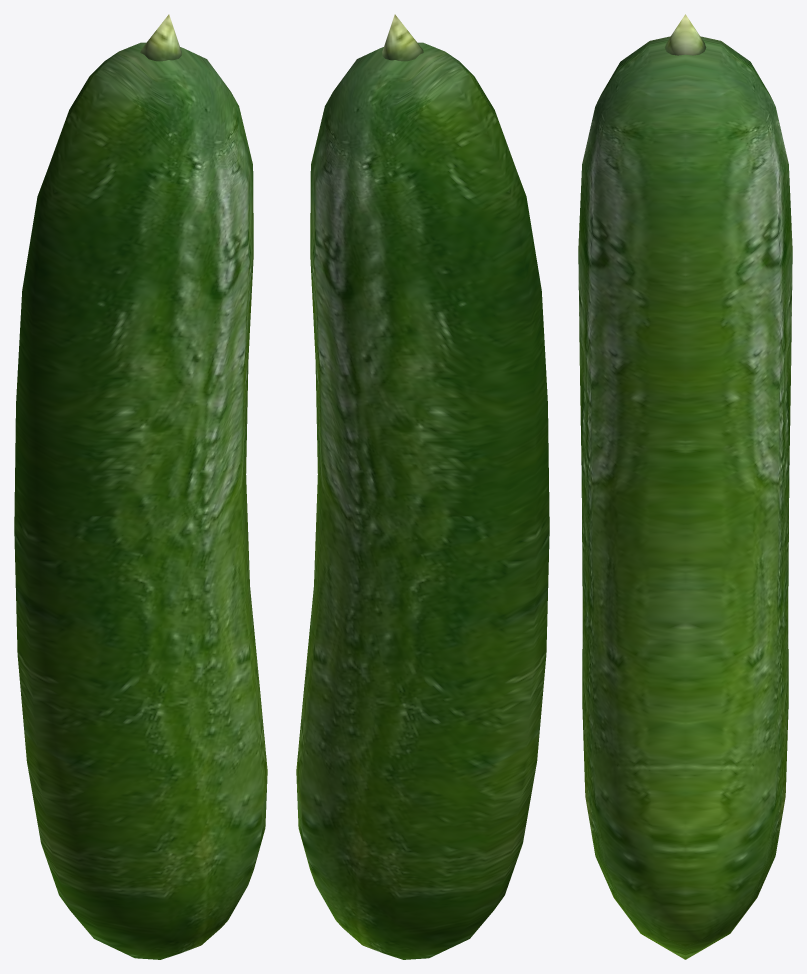
The model's file is cucumber.fbx.
3 renders of one model, left to right at view 1: azimuth 30°, elevation 25°; view 2: azimuth 150°, elevation 25°; view 3: azimuth 270°, elevation 25°, orthographic.
Parts seen in each view (by area): view 1: Cucumber; view 2: Cucumber; view 3: Cucumber.
Part boxes in pixels (box(x1,y1,x2,y2)): Cucumber: box(14, 14, 267, 959); Cucumber: box(296, 14, 549, 959); Cucumber: box(578, 14, 792, 959).
Bounding box in the file's own units: 126 × 494 × 102.
